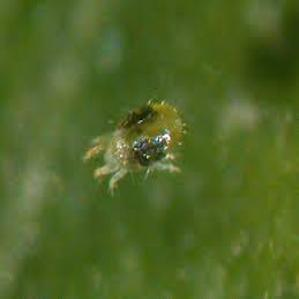spider mite: (67, 81, 191, 203)
